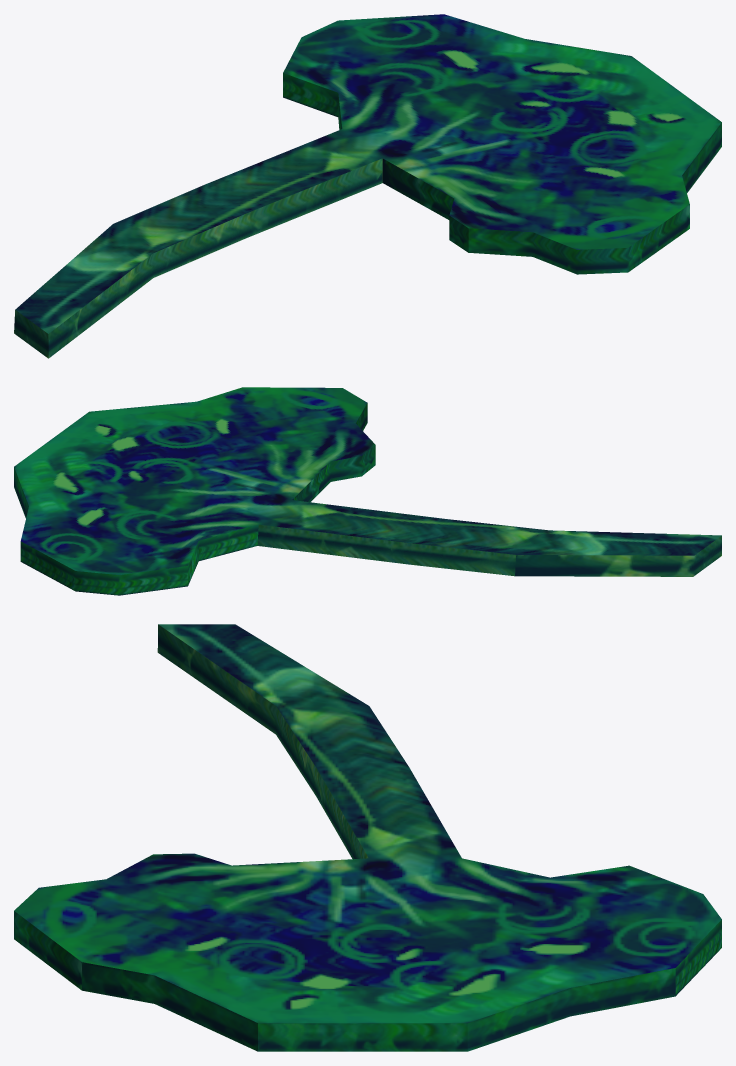
Rendered from SM_Shroom_Drug.fbx.
The picture shows the model from 3 angles, top to bottom: view 1: azimuth 30°, elevation 25°; view 2: azimuth 150°, elevation 25°; view 3: azimuth 270°, elevation 25°; orthographic projection. The views are drawn at different scales.
Visible parts, largest first — view 1: SM_Shroom_Drug; view 2: SM_Shroom_Drug; view 3: SM_Shroom_Drug.
Part boxes in pixels (x1,y1,x2,y2): SM_Shroom_Drug: (14, 14, 721, 358); SM_Shroom_Drug: (14, 387, 721, 595); SM_Shroom_Drug: (14, 624, 721, 1051).
Size of the model in its own units: 0.448 by 0.0179 by 0.3307.
